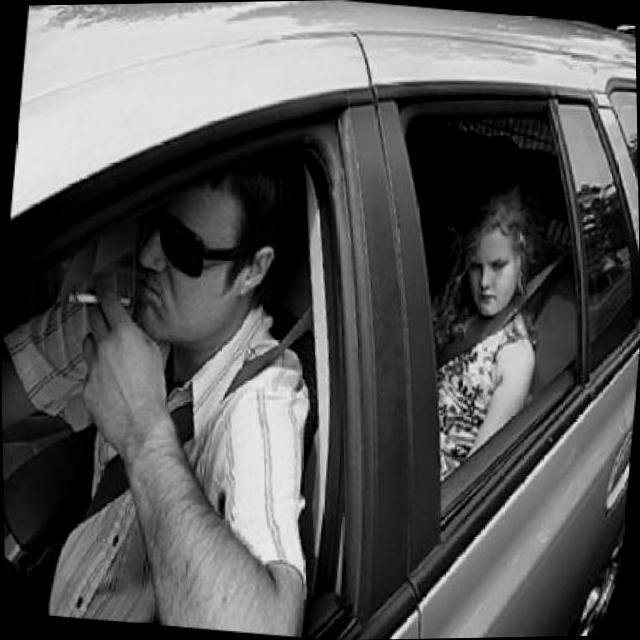cigarette: (61, 288, 130, 314)
